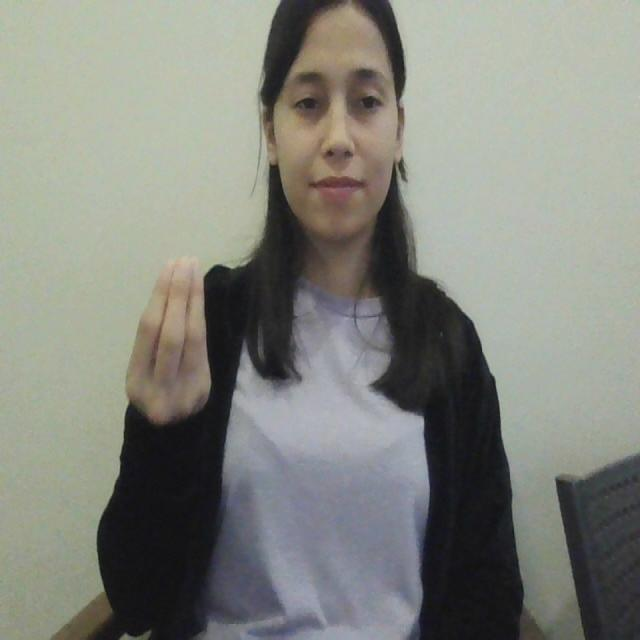iyi: (121, 248, 215, 428)
